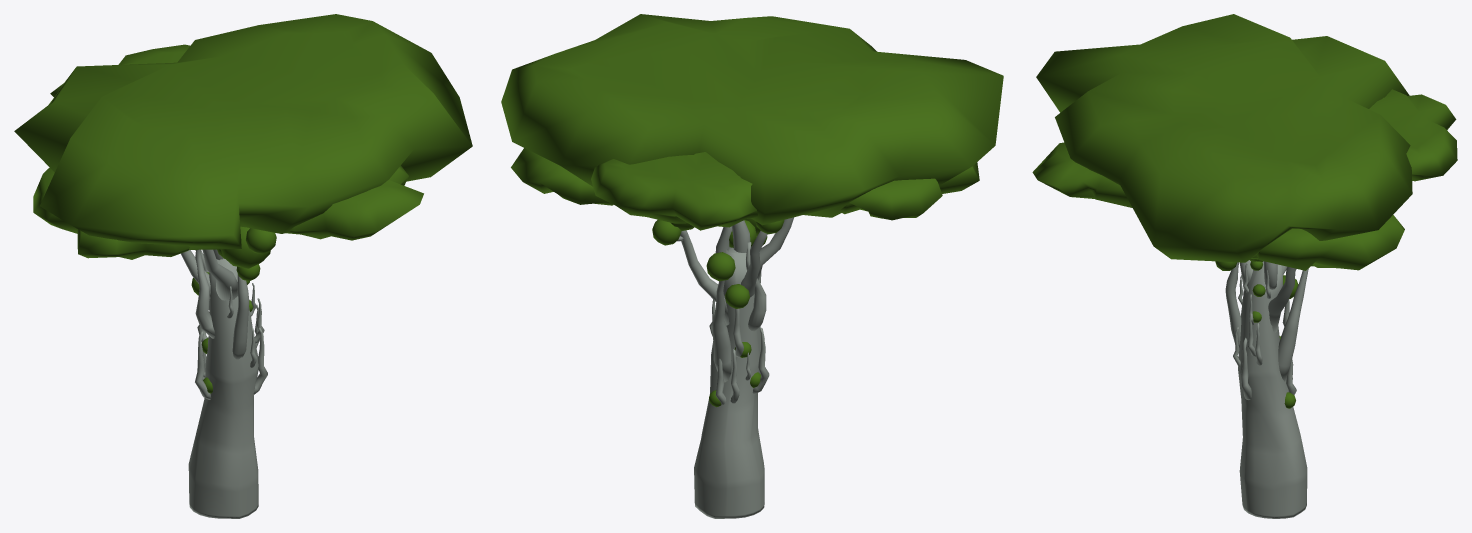
File: tree.fbx
3 views of the same model, side by side, from view 1: azimuth 30°, elevation 25°; view 2: azimuth 150°, elevation 25°; view 3: azimuth 270°, elevation 25° (orthographic). The views are drawn at different scales.
Visible parts, largest first — view 1: Plane.004; view 2: Plane.004; view 3: Plane.004.
Boxes of the visible parts, left/top/right/bottom form: Plane.004: left=14, top=14, right=472, bottom=518; Plane.004: left=501, top=14, right=1003, bottom=518; Plane.004: left=1032, top=14, right=1457, bottom=518.
Bounding box in the file's own units: 2633 × 2549 × 2345.
